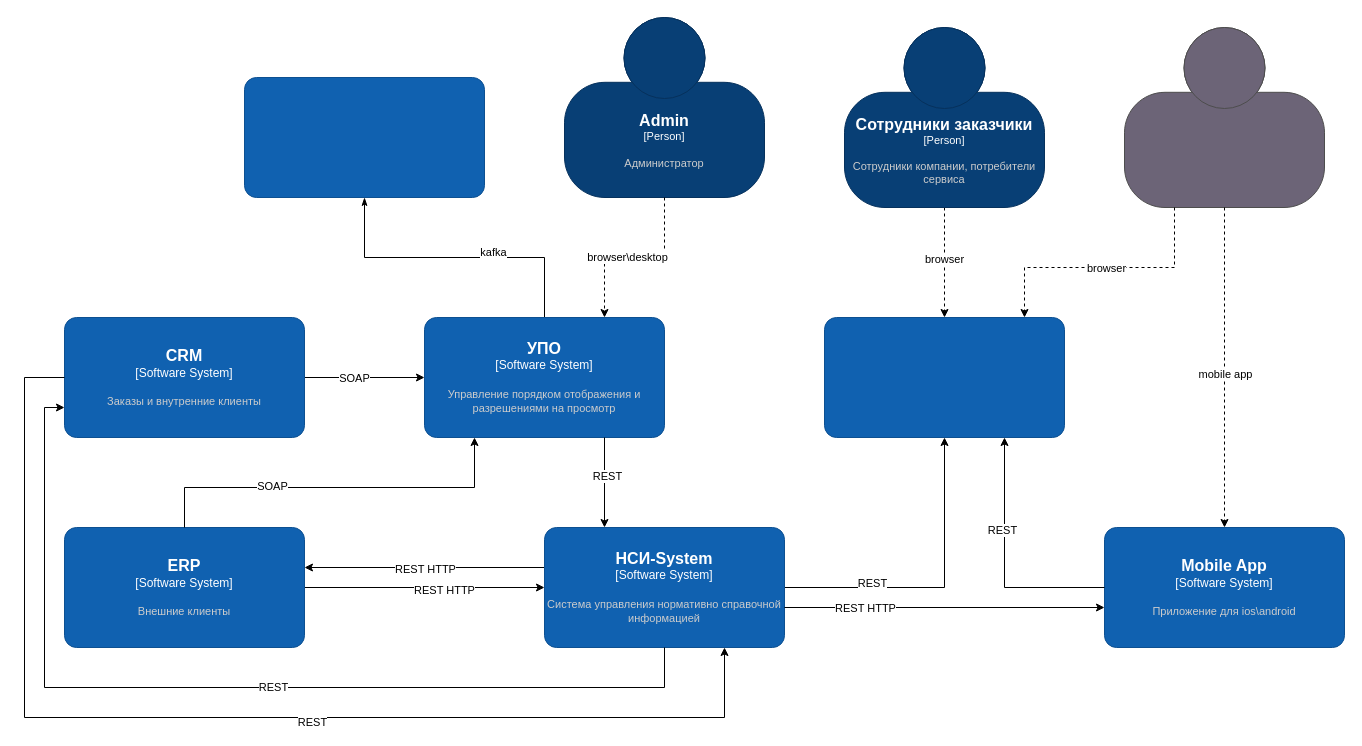
The diagram is 1362 pixels wide and 746 high, and some of its shapes have lost their labels. The shapes that lost their labels are listed below. From the top down, each one's box as (x1, y1, x2, y2) in pixels, then its label:
(244, 76, 484, 198): SMTP [Software System] Сервис отправки e-mail
(1124, 26, 1324, 208): Клиенты [Person] Физические и юридические лица
(824, 316, 1064, 438): Сайт [Software System] Сайт для пользователей
